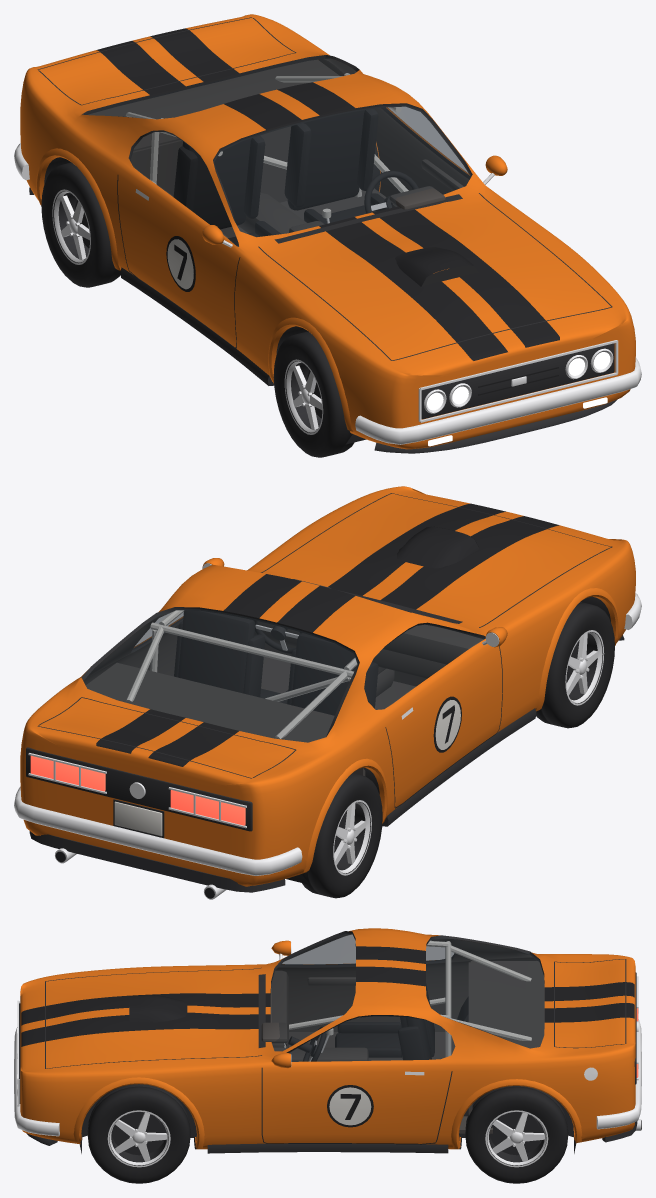
File: car.glb
The picture shows the model from 3 angles, top to bottom: view 1: azimuth 30°, elevation 25°; view 2: azimuth 150°, elevation 25°; view 3: azimuth 270°, elevation 25°; orthographic projection. The views are drawn at different scales.
Visible parts, largest first — view 1: CAR_paint, CAR_glass, CAR_interior, CAR_detail, CAR_wheel_FR, CAR_wheel_RR, CAR_steer; view 2: CAR_paint, CAR_glass, CAR_interior, CAR_detail, CAR_wheel_FR, CAR_wheel_RR, CAR_steer; view 3: CAR_paint, CAR_glass, CAR_interior, CAR_detail, CAR_wheel_FL, CAR_wheel_RL.
Part boxes in pixels (<box>): CAR_paint: <box>20,14,635,449</box>; CAR_glass: <box>85,57,471,246</box>; CAR_interior: <box>88,59,463,246</box>; CAR_detail: <box>14,17,641,453</box>; CAR_wheel_FR: <box>273,331,354,457</box>; CAR_wheel_RR: <box>41,162,120,287</box>; CAR_steer: <box>364,170,418,213</box>; CAR_paint: <box>20,486,635,886</box>; CAR_glass: <box>83,609,483,742</box>; CAR_interior: <box>86,579,483,813</box>; CAR_detail: <box>14,493,641,899</box>; CAR_wheel_FR: <box>536,602,614,728</box>; CAR_wheel_RR: <box>301,773,382,898</box>; CAR_steer: <box>253,620,301,653</box>; CAR_paint: <box>20,928,635,1149</box>; CAR_glass: <box>272,933,543,1061</box>; CAR_interior: <box>261,941,544,1133</box>; CAR_detail: <box>14,942,641,1153</box>; CAR_wheel_FL: <box>87,1084,190,1183</box>; CAR_wheel_RL: <box>465,1086,568,1183</box>.
Size of the model in its own units: 2.01 by 1.31 by 4.49.
